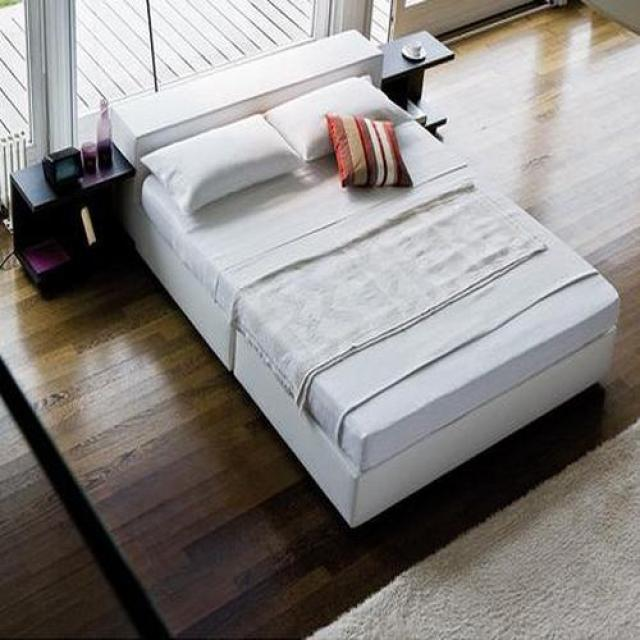bed: (108, 31, 621, 531)
